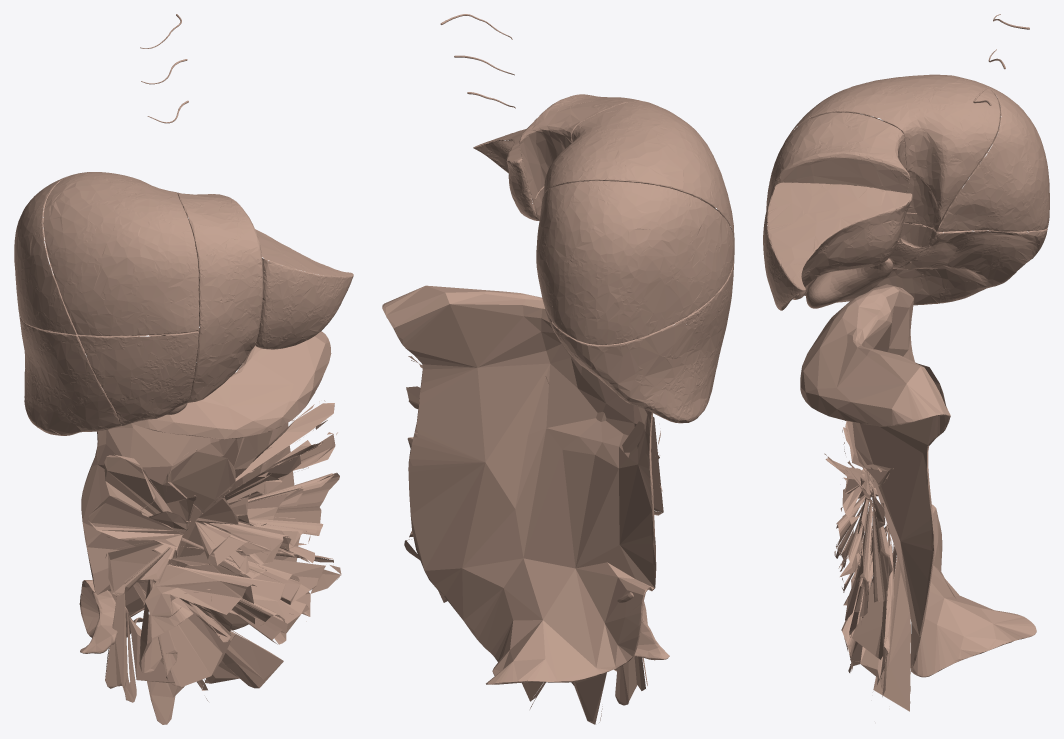
The model's file is digestive-01.glb.
3 renders of one model, left to right at view 1: azimuth 30°, elevation 25°; view 2: azimuth 150°, elevation 25°; view 3: azimuth 270°, elevation 25°, orthographic. The views are drawn at different scales.
Visible parts, largest first — view 1: FJ3396, FJ3398, FJ2824, FJ2820, FJ2821, FJ2822, FJ2819, FJ2823, FJ3397; view 2: FJ3398, FJ2823, FJ2824, FJ2822, FJ2820, FJ3396, FJ2819, FJ3397; view 3: FJ3398, FJ2824, FJ3396, FJ2819, FJ2823, FJ2820, FJ2822, FJ2817, FJ2821.
Part boxes in pixels (x1,y1,x2,y2): FJ3396: [87, 400, 341, 724]; FJ3398: [79, 331, 331, 637]; FJ2824: [43, 172, 199, 336]; FJ2820: [161, 192, 263, 402]; FJ2821: [78, 331, 198, 425]; FJ2822: [19, 276, 132, 435]; FJ2819: [255, 229, 353, 349]; FJ2823: [14, 175, 76, 334]; FJ3397: [80, 590, 142, 653]; FJ3398: [382, 285, 656, 684]; FJ2823: [536, 181, 734, 344]; FJ2824: [543, 101, 734, 239]; FJ2822: [545, 259, 734, 423]; FJ2820: [519, 94, 678, 219]; FJ3396: [404, 356, 663, 724]; FJ2819: [473, 129, 572, 220]; FJ3397: [617, 592, 669, 660]; FJ3398: [800, 284, 1036, 677]; FJ2824: [785, 74, 1000, 227]; FJ3396: [824, 421, 910, 711]; FJ2819: [763, 182, 912, 310]; FJ2823: [887, 83, 1049, 232]; FJ2820: [766, 112, 909, 299]; FJ2822: [873, 207, 1047, 305]; FJ2817: [806, 258, 893, 308]; FJ2821: [804, 223, 933, 295].
Bounding box in the file's own units: 0.2076 × 0.4365 × 0.1591.
